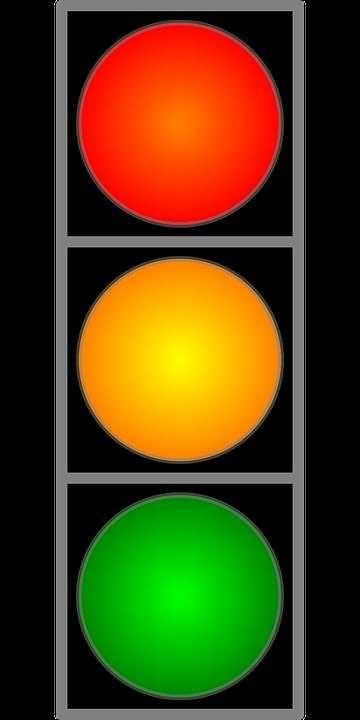green: (54, 468, 298, 720)
red: (68, 10, 295, 239)
